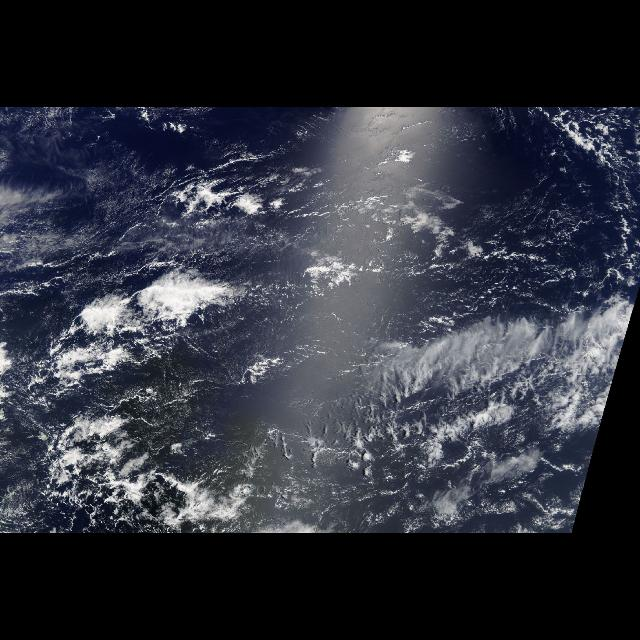Sugar: (1, 216, 328, 276), (212, 306, 354, 402), (489, 160, 613, 258)
